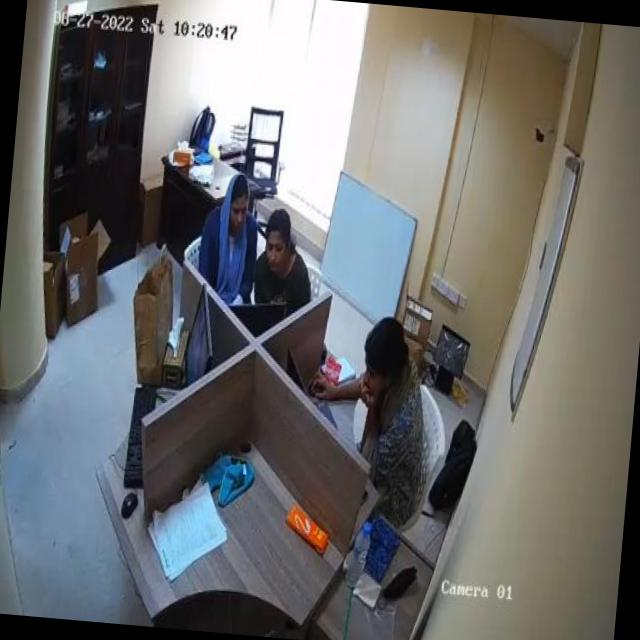hairnet: (224, 170, 252, 210)
